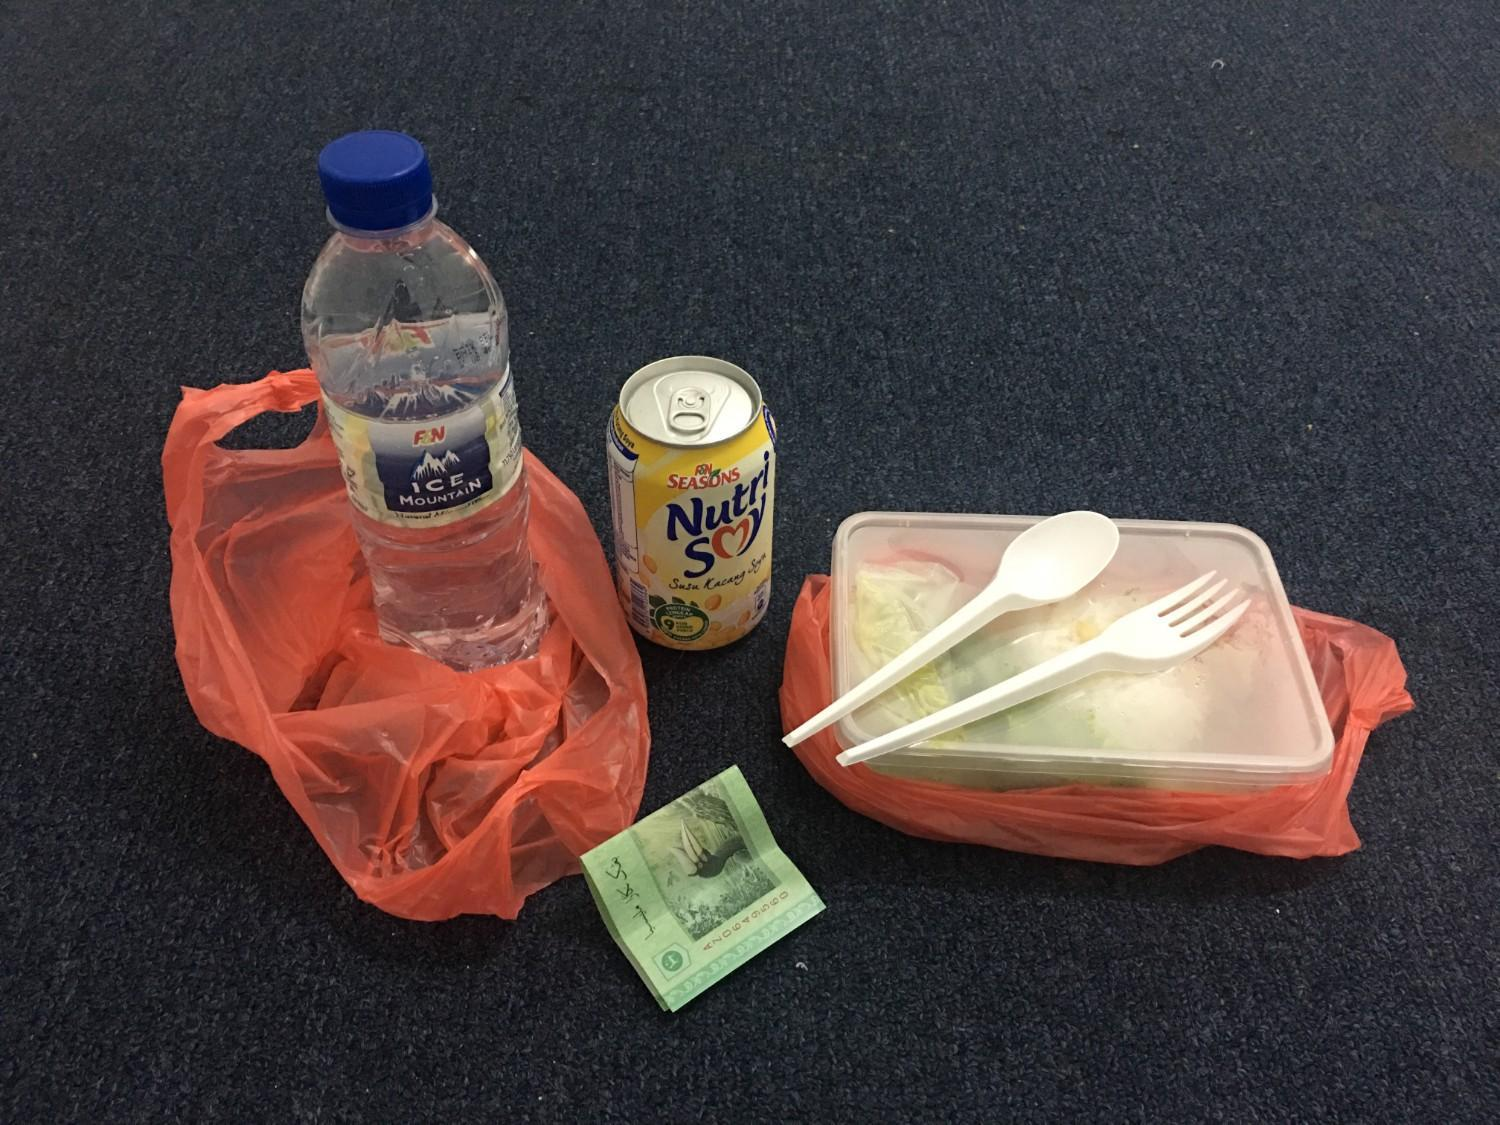bottle: (281, 113, 560, 683)
